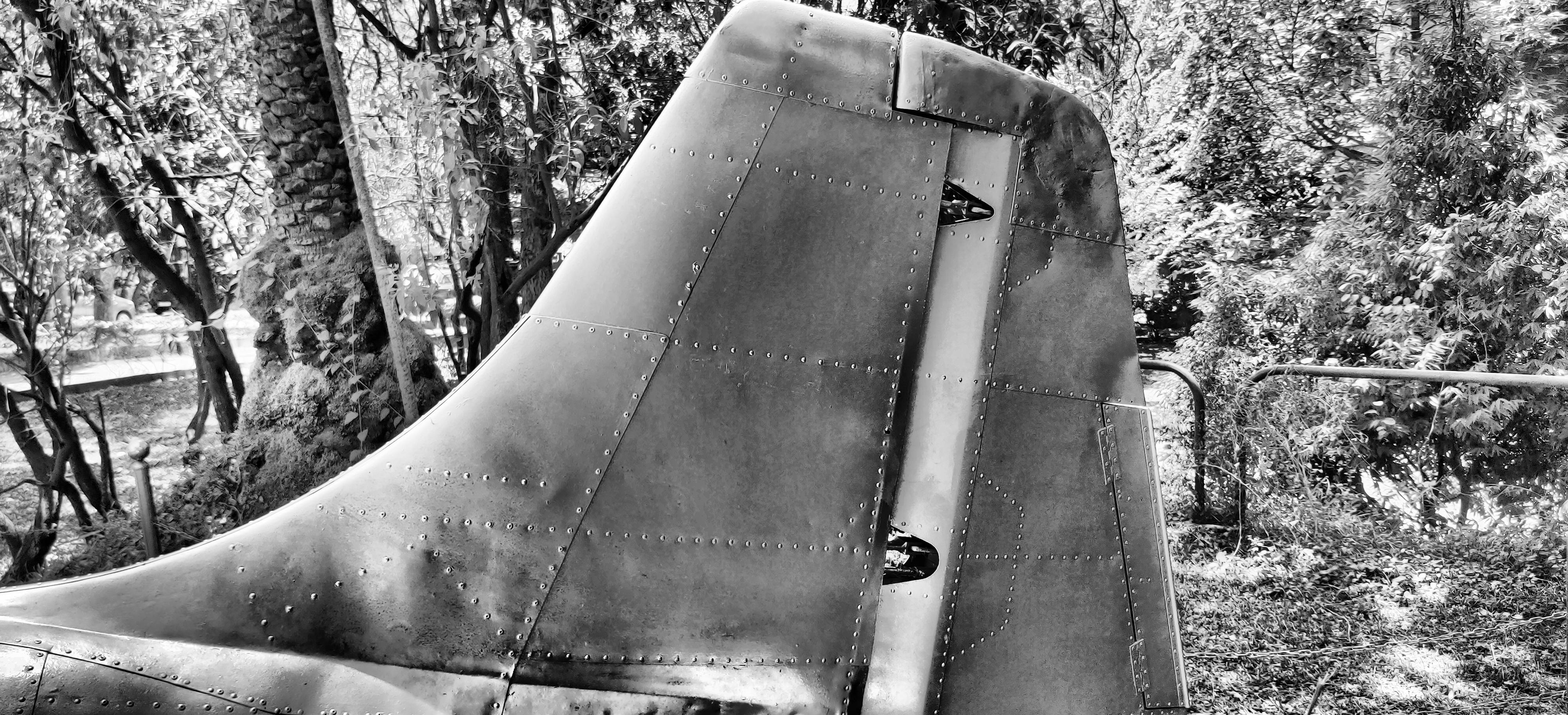dent: (721, 31, 782, 67), (711, 700, 728, 715), (684, 700, 700, 714), (784, 704, 801, 715)
missing-head: (803, 26, 809, 31), (1130, 400, 1133, 404)
